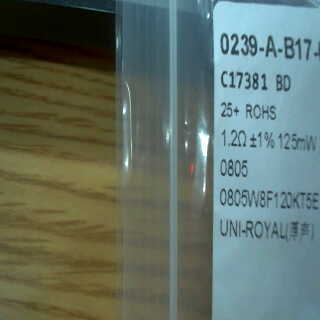1.2R: (219, 125, 248, 179)
